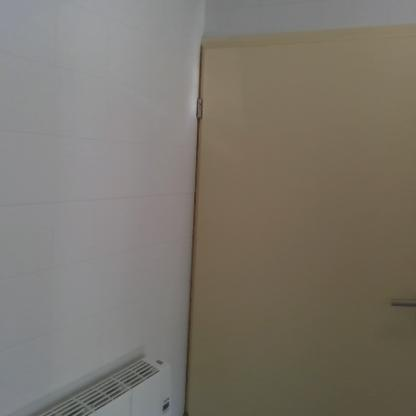door: (203, 48, 416, 412)
hinged: (195, 96, 204, 119), (182, 411, 190, 415)
lever: (388, 292, 415, 310)
